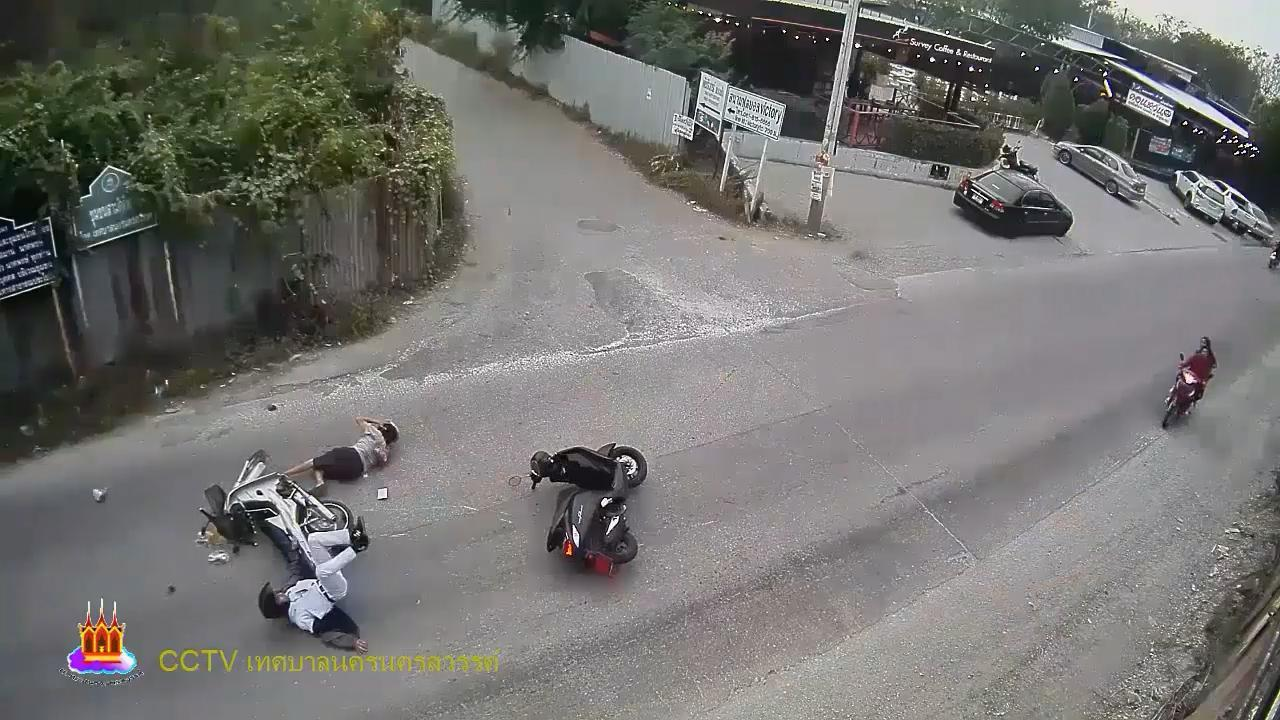accident: (253, 515, 379, 651), (279, 413, 405, 492)
